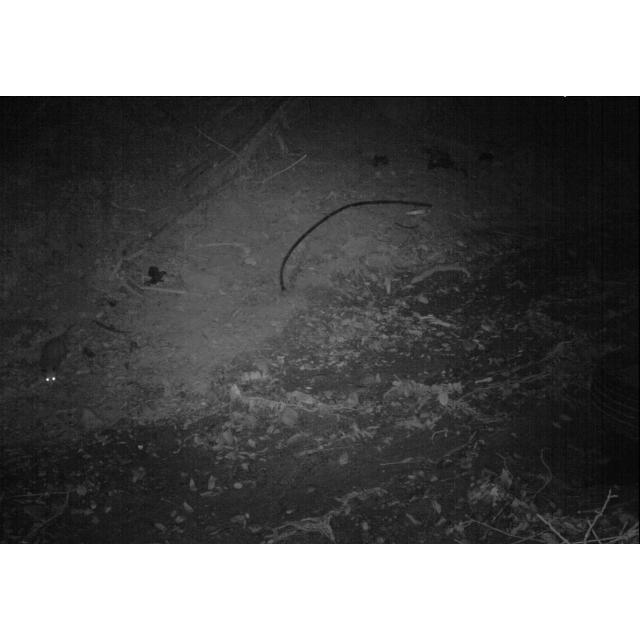animals: (42, 320, 78, 388)
